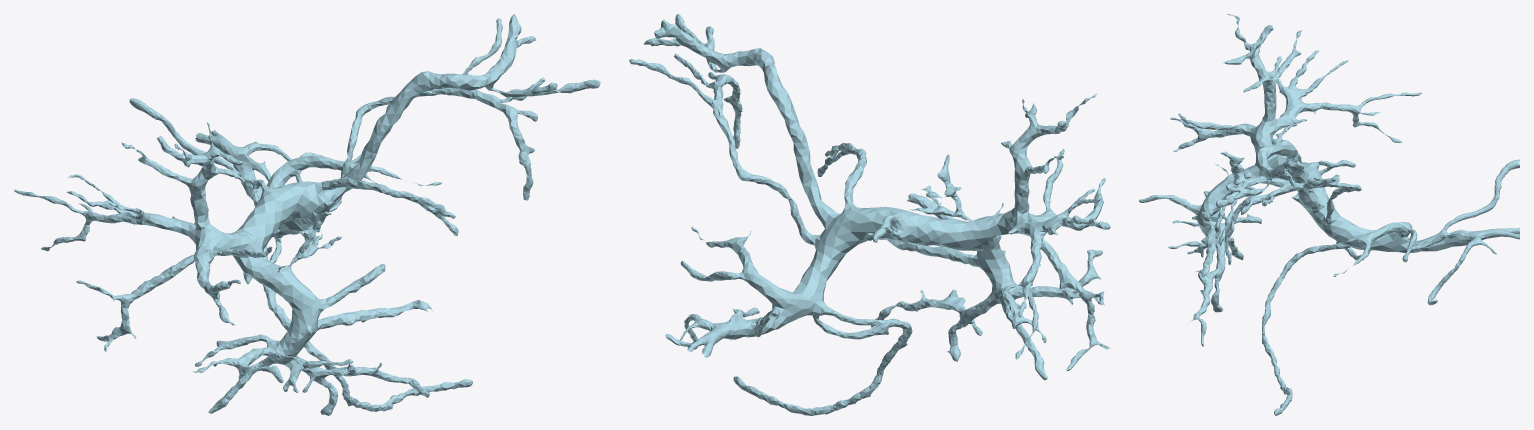
File: portalvein.obj
3 views of the same model, side by side, from view 1: azimuth 30°, elevation 25°; view 2: azimuth 150°, elevation 25°; view 3: azimuth 270°, elevation 25° (orthographic). The views are drawn at different scales.
Parts seen in each view (by area): view 1: grp1; view 2: grp1; view 3: grp1.
Part boxes in pixels (box(x1,y1,x2,y2)): grp1: box(14, 14, 600, 415); grp1: box(629, 14, 1110, 415); grp1: box(1139, 14, 1519, 415).
Bounding box in the file's own units: 231 × 168 × 200.
